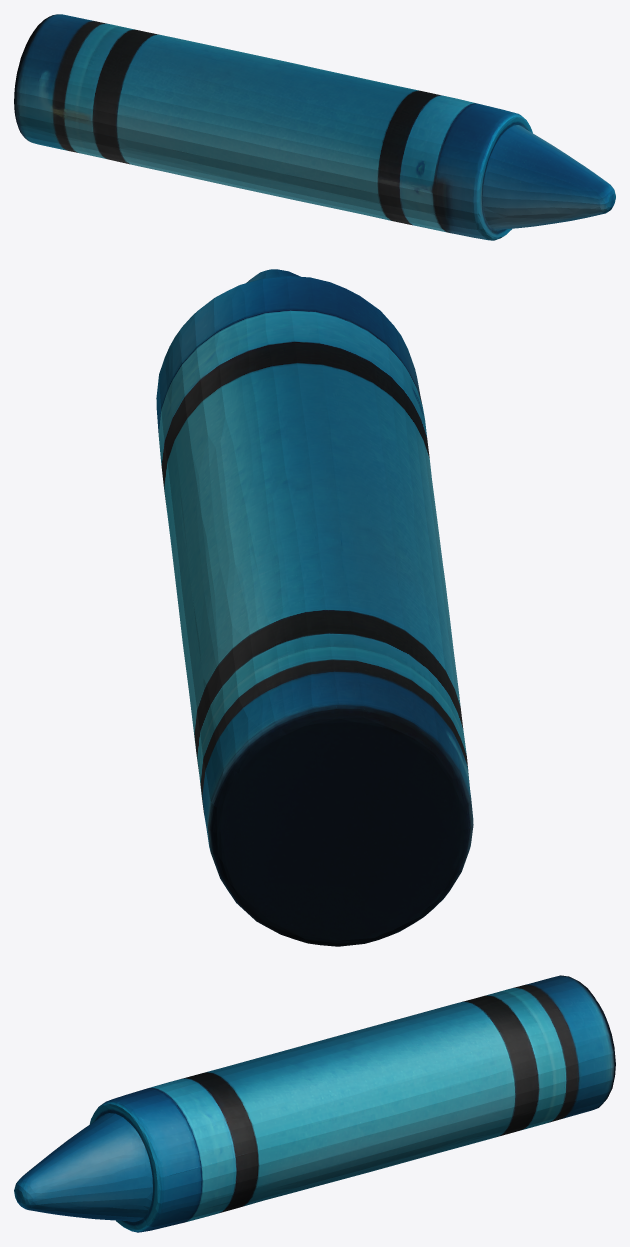
Rendered from cobalto.fbx.
The picture shows the model from 3 angles, top to bottom: view 1: azimuth 30°, elevation 25°; view 2: azimuth 150°, elevation 25°; view 3: azimuth 270°, elevation 25°; orthographic projection. The views are drawn at different scales.
Parts seen in each view (by area): view 1: geometry_0.001; view 2: geometry_0.001; view 3: geometry_0.001.
Part boxes in pixels (x1,y1,x2,y2): geometry_0.001: [14, 14, 615, 240]; geometry_0.001: [156, 269, 473, 946]; geometry_0.001: [14, 975, 615, 1232].
Size of the model in its own units: 0.2992 by 0.0979 by 0.4188.
Materials: 1 (1 with a texture image).
